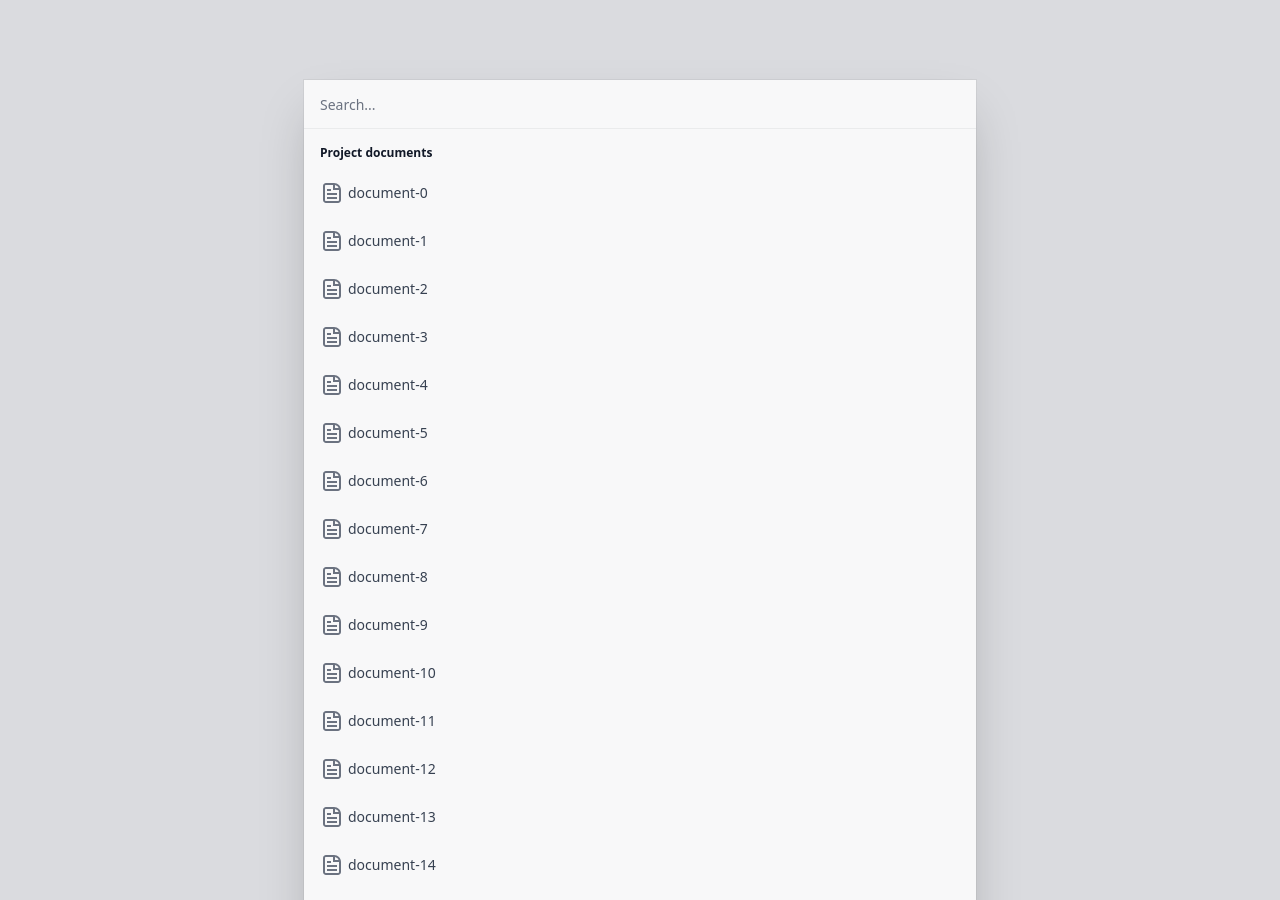
it: CommandPalette document list › lets a query reach a document beyond the visible cap
Expected: the text "document-150" is not shown
// ...but searching for it surfaces it.
Type "document-150" into the dropdown with placeholder "Search..." at (640, 104), box [304,80,976,128]
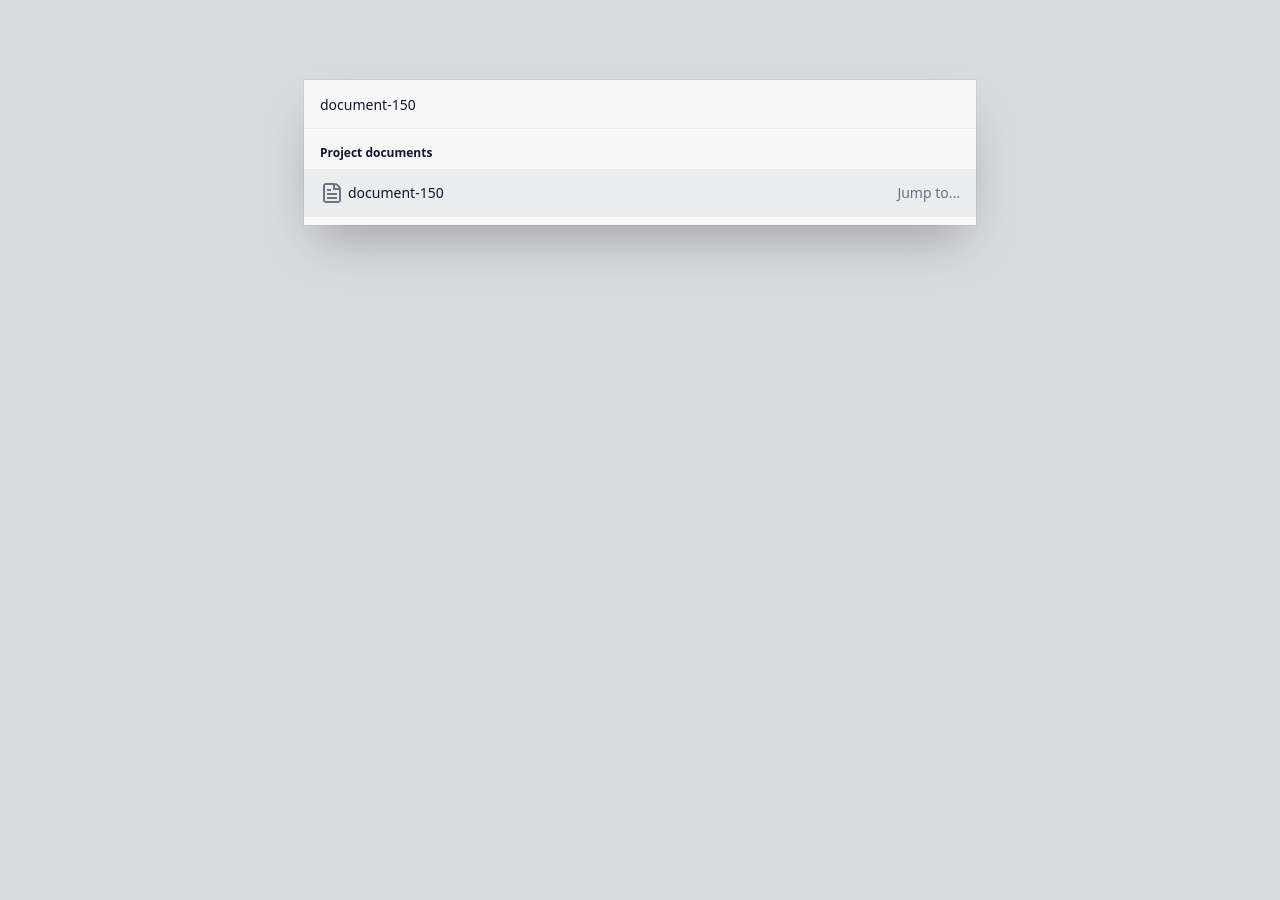
Expected: the text "document-150" is shown, [348,183,444,202]
